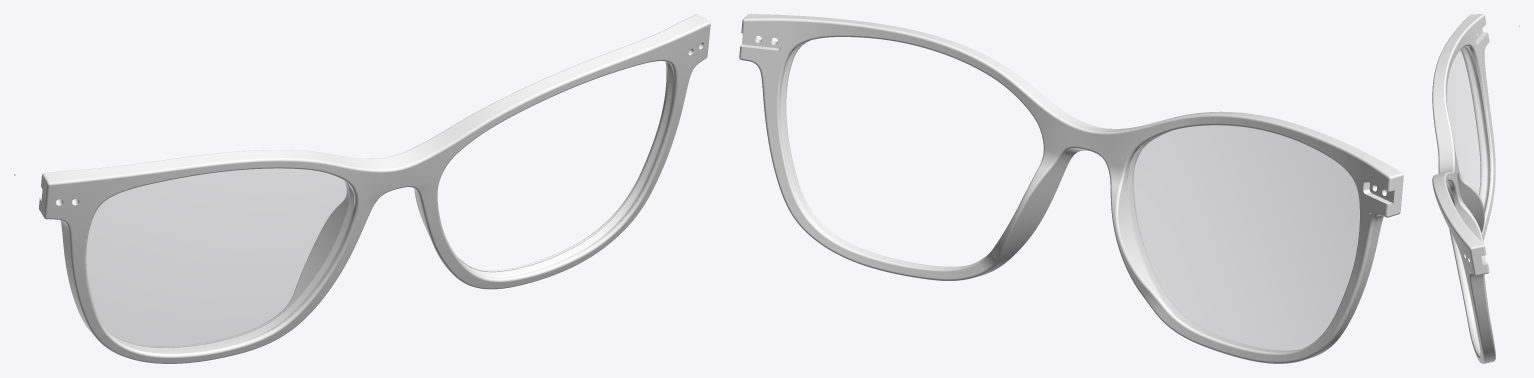
The picture shows the model from 3 angles, left to right: view 1: azimuth 30°, elevation 25°; view 2: azimuth 150°, elevation 25°; view 3: azimuth 270°, elevation 25°; orthographic projection. The views are drawn at different scales.
Visible parts, largest first — view 1: LENTE_DX, FRONTALE; view 2: LENTE_DX, FRONTALE; view 3: FRONTALE, LENTE_DX.
Part boxes in pixels (x1=…): LENTE_DX: x1=86, y1=168, x2=354, y2=353; FRONTALE: x1=38, y1=14, x2=710, y2=363; LENTE_DX: x1=1127, y1=125, x2=1359, y2=352; FRONTALE: x1=739, y1=14, x2=1403, y2=363; FRONTALE: x1=1432, y1=14, x2=1495, y2=363; LENTE_DX: x1=1447, y1=46, x2=1489, y2=211.
Size of the model in its own units: 1.41 by 0.4575 by 0.2216.
3 materials, 1 textured.
